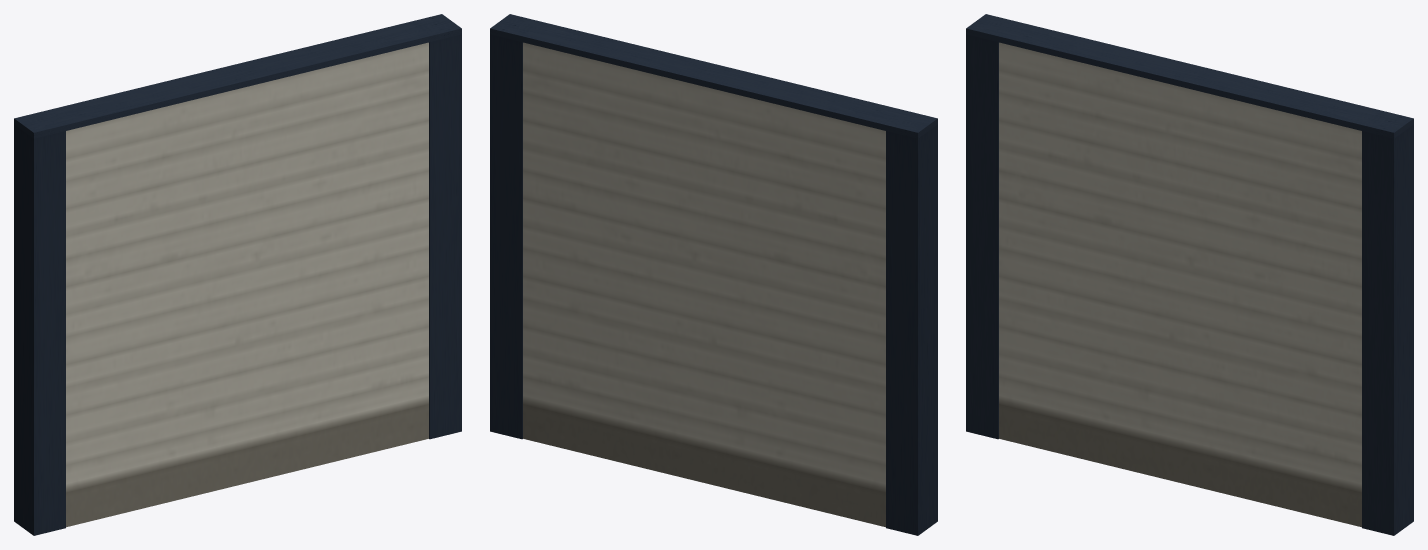
File: house_05_wall_solid.glb
The picture shows the model from 3 angles, left to right: view 1: azimuth 30°, elevation 25°; view 2: azimuth 150°, elevation 25°; view 3: azimuth 330°, elevation 25°; orthographic projection.
Parts seen in each view (by area): view 1: outdoor_house_05_wall_solid; view 2: outdoor_house_05_wall_solid; view 3: outdoor_house_05_wall_solid.
Boxes of the visible parts, x1,y1,x2,y2 form: outdoor_house_05_wall_solid: (14,14,461,535); outdoor_house_05_wall_solid: (490,14,937,535); outdoor_house_05_wall_solid: (966,14,1413,535).
Size of the model in its own units: 3 by 2.7 by 0.24.
Materials: 1 (1 with a texture image).
